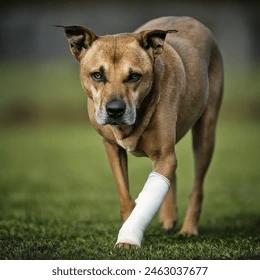fracture: (100, 156, 198, 257)
